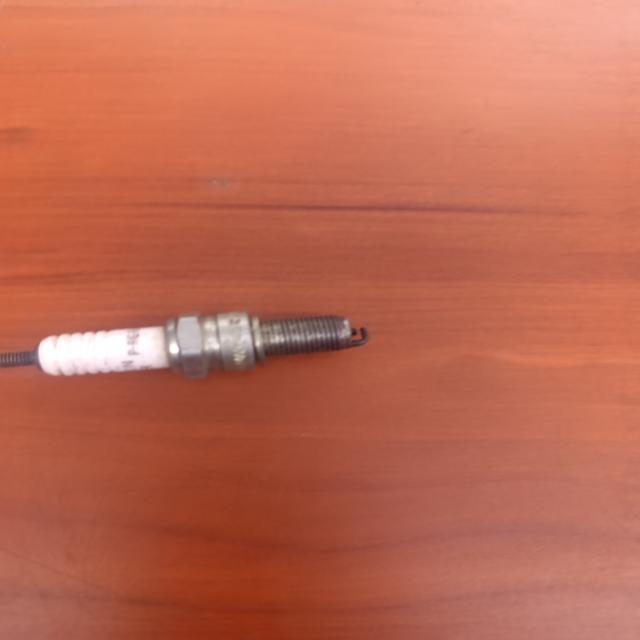bujia: (0, 312, 369, 379)
